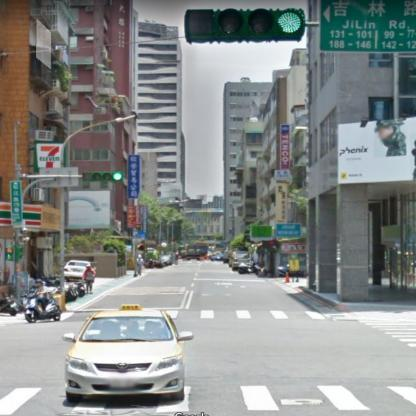Green Light: (184, 9, 304, 40), (81, 171, 124, 180)
